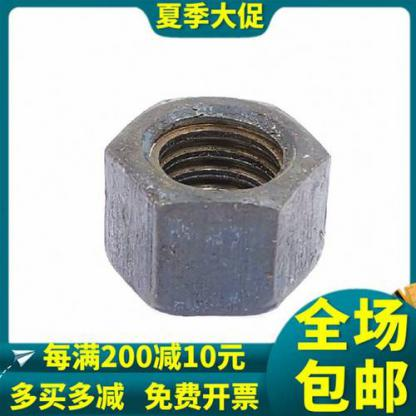FOD: (100, 94, 334, 316)
